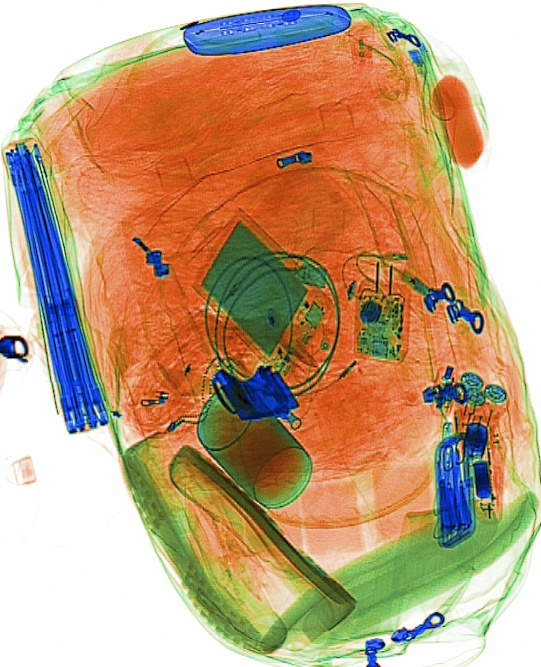scissors: (438, 436, 467, 535)
